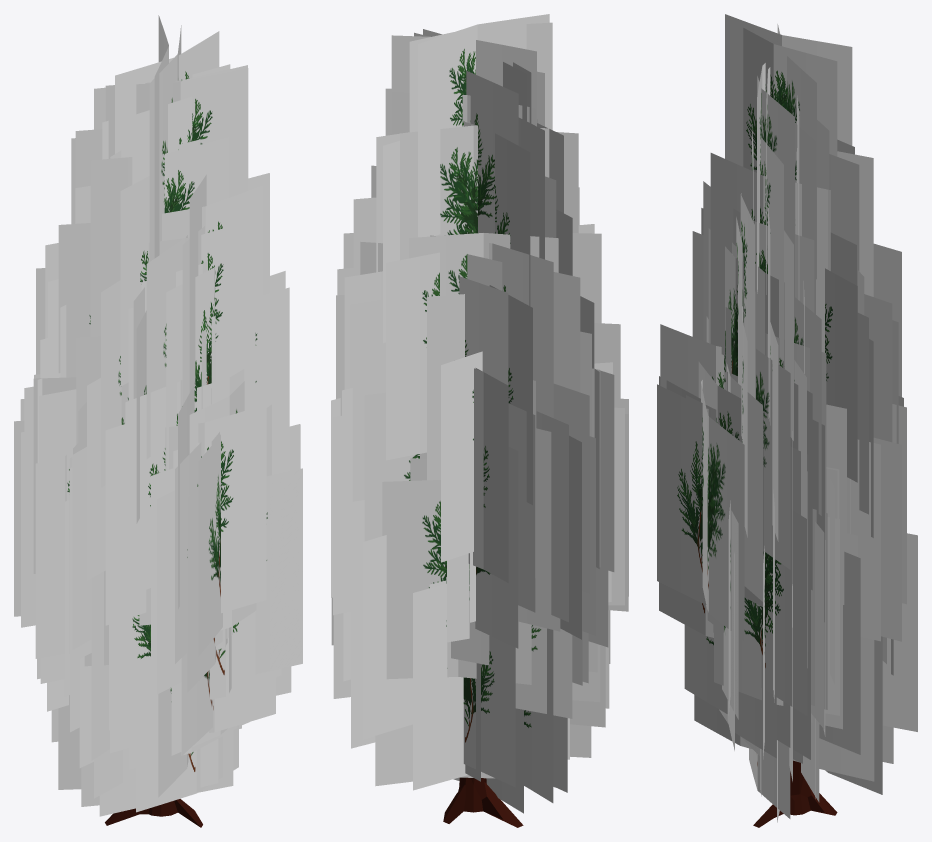
The model's file is thuja01.fbx.
The picture shows the model from 3 angles, left to right: view 1: azimuth 30°, elevation 25°; view 2: azimuth 150°, elevation 25°; view 3: azimuth 270°, elevation 25°; orthographic projection.
Parts seen in each view (by area): view 1: thuja01; view 2: thuja01; view 3: thuja01.
Boxes of the visible parts, left/top/right/bottom form: thuja01: left=14, top=15, right=302, bottom=827; thuja01: left=331, top=14, right=628, bottom=827; thuja01: left=657, top=14, right=917, bottom=827.
Bounding box in the file's own units: 251 × 716 × 217.
